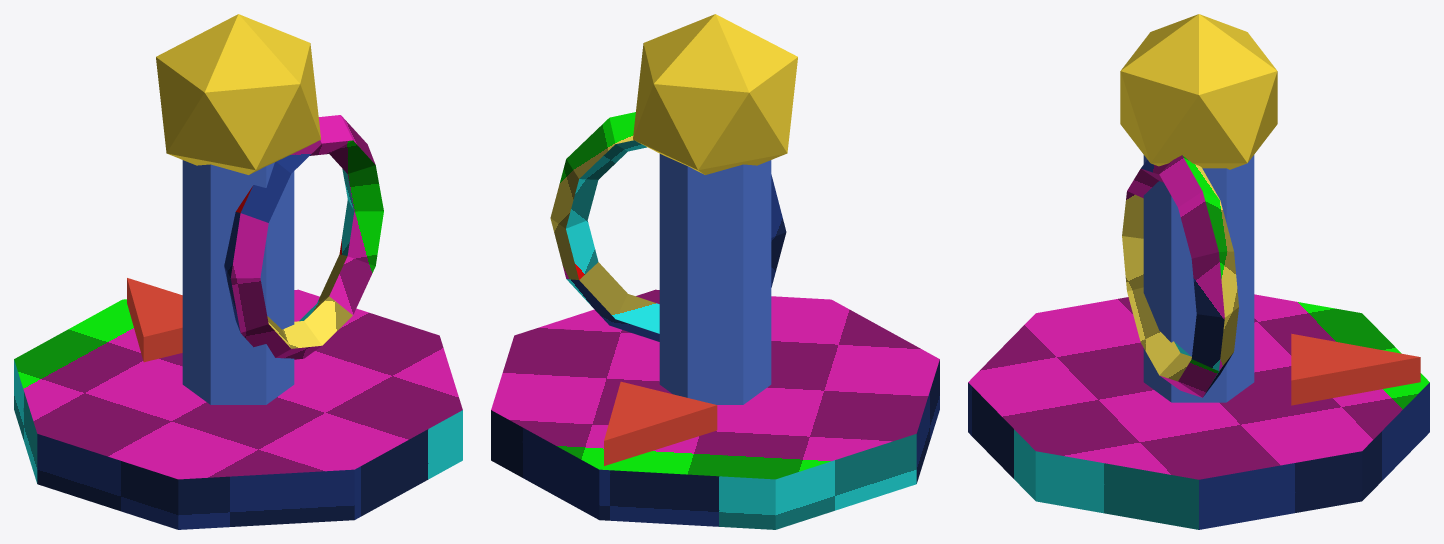
The model's file is technical_fixture.glb.
The picture shows the model from 3 angles, left to right: view 1: azimuth 30°, elevation 25°; view 2: azimuth 150°, elevation 25°; view 3: azimuth 270°, elevation 25°; orthographic projection.
Parts seen in each view (by area): view 1: OctagonalBase_1m, FacetedCap, HexagonalPillar, NestedPolygonRing, ForwardMinusZ; view 2: OctagonalBase_1m, HexagonalPillar, FacetedCap, NestedPolygonRing, ForwardMinusZ; view 3: OctagonalBase_1m, FacetedCap, NestedPolygonRing, HexagonalPillar, ForwardMinusZ.
Boxes of the visible parts, x1,y1,x2,y2 form: OctagonalBase_1m: (14,289,462,529); FacetedCap: (156,14,320,174); HexagonalPillar: (182,160,294,404); NestedPolygonRing: (224,115,383,359); ForwardMinusZ: (127,278,182,362); OctagonalBase_1m: (491,289,939,529); HexagonalPillar: (659,154,771,404); FacetedCap: (633,14,797,174); NestedPolygonRing: (550,112,786,341); ForwardMinusZ: (604,381,717,465); OctagonalBase_1m: (968,294,1429,529); FacetedCap: (1120,14,1277,169); NestedPolygonRing: (1122,155,1238,397); HexagonalPillar: (1143,155,1254,402); ForwardMinusZ: (1291,333,1420,405).
Bounding box in the file's own units: 1 × 1 × 1.
Materials: 4 (1 with a texture image).
